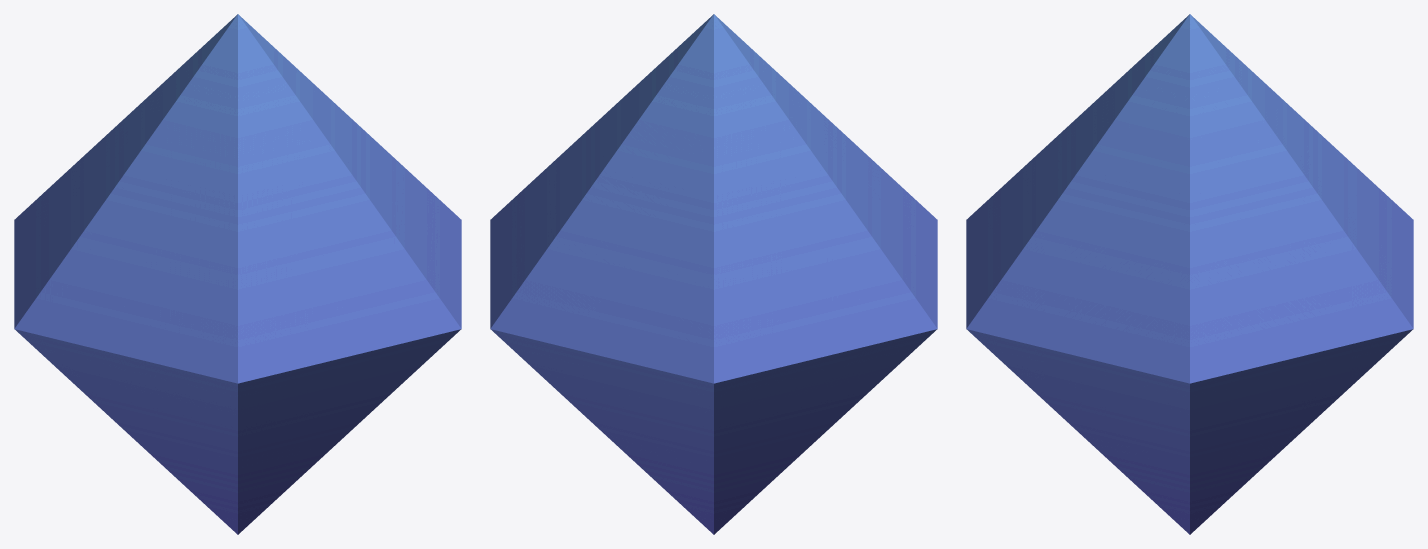
The model's file is jewel.glb.
3 renders of one model, left to right at view 1: azimuth 30°, elevation 25°; view 2: azimuth 150°, elevation 25°; view 3: azimuth 270°, elevation 25°, orthographic.
Parts seen in each view (by area): view 1: jewel; view 2: jewel; view 3: jewel.
Boxes of the visible parts, x1=… form: jewel: x1=14, y1=14, x2=461, y2=534; jewel: x1=490, y1=14, x2=937, y2=534; jewel: x1=966, y1=14, x2=1413, y2=534.
Size of the model in its own units: 0.3329 by 0.3705 by 0.2883.
Materials: 1 (1 with a texture image).
